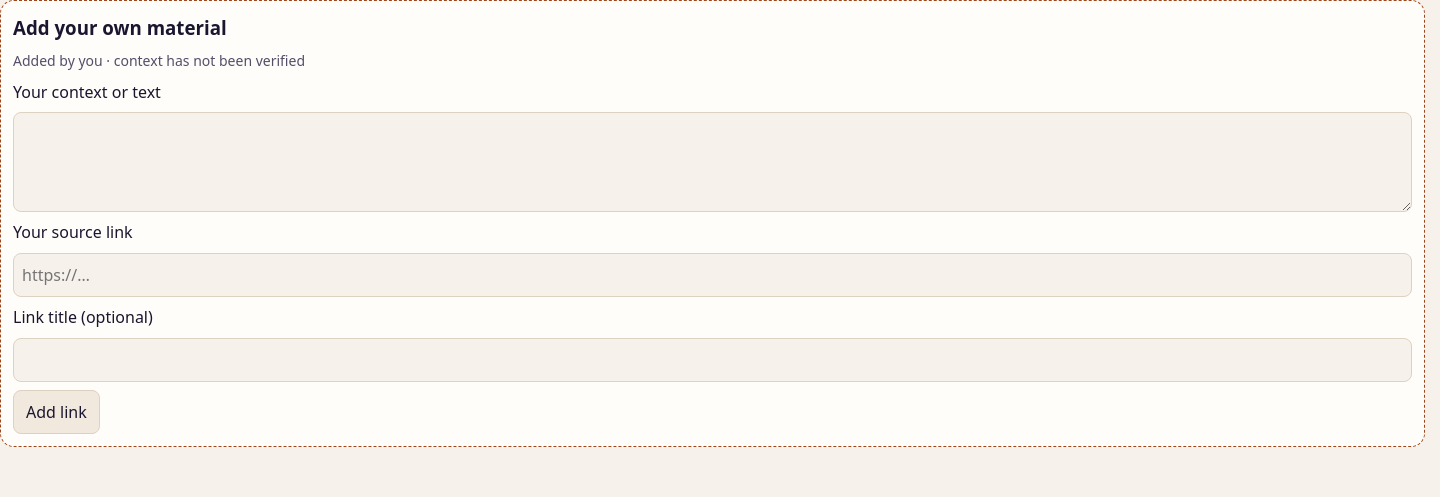
UserAdditions › rejects unsafe URL http://example.com
Step 1. Type "http://example.com" into the field labelled "Your source link" → (712, 275), box [13,253,1412,297]
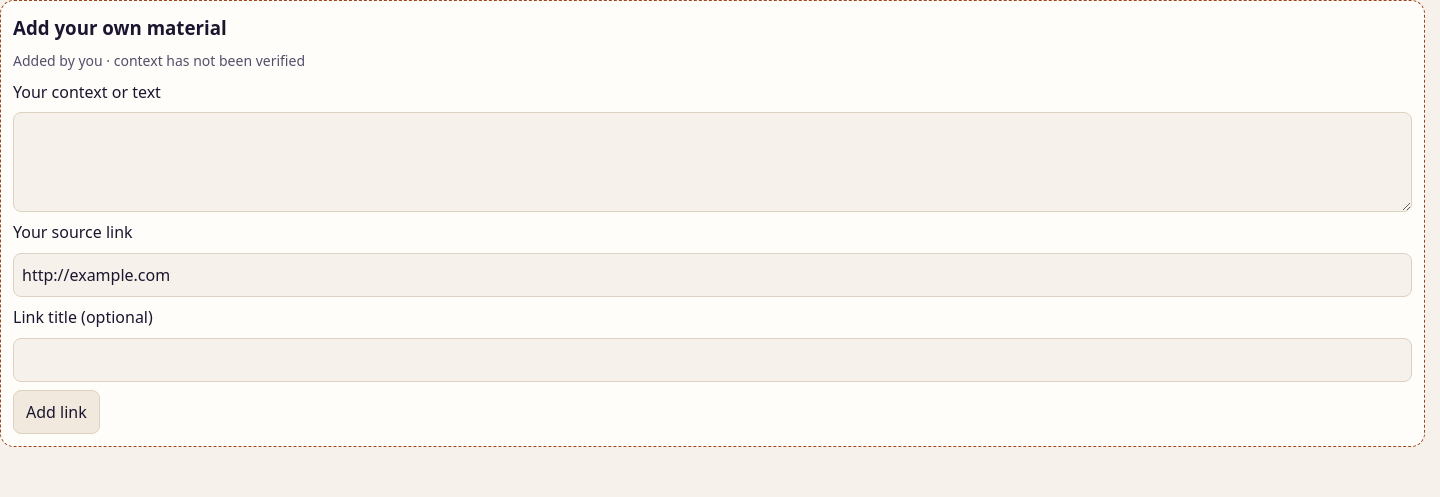
Step 2. Submit the form "Add link", box [13,220,1412,434]
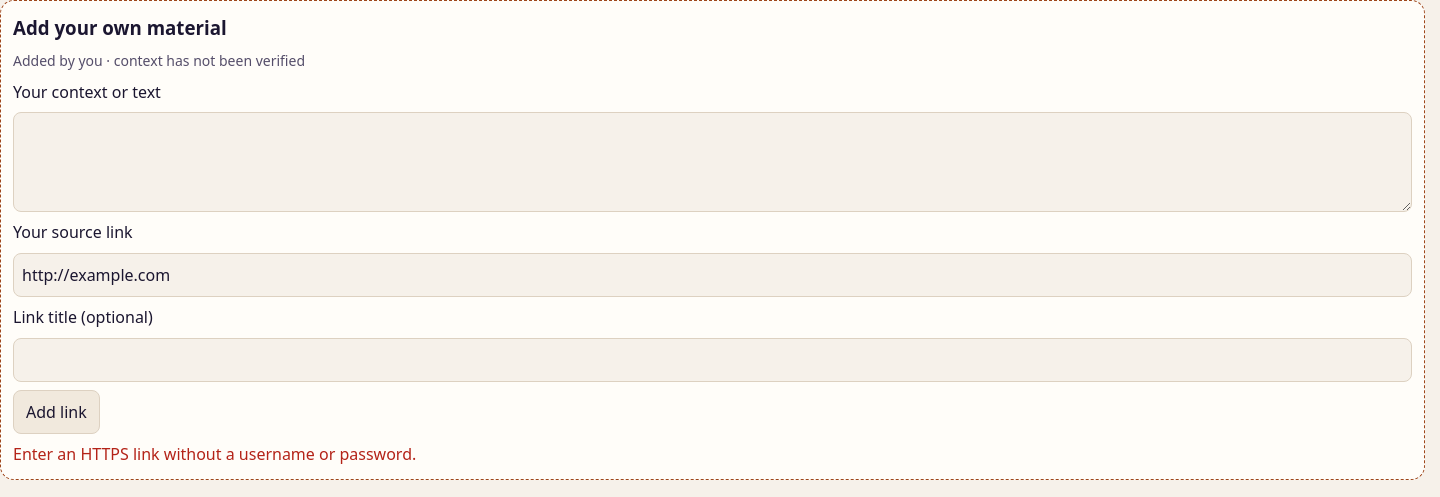
Check: the message shows "Enter an HTTPS link", box [13,443,416,465]
